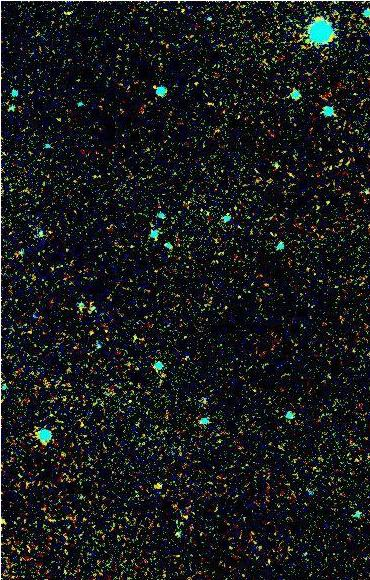star: (142, 468, 172, 498)
